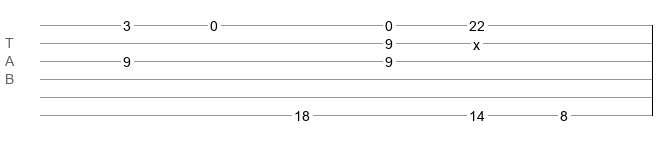0: (210, 18, 218, 28), (385, 18, 393, 28)
14: (469, 108, 485, 118)
18: (294, 108, 310, 118)
22: (469, 18, 485, 28)
3: (123, 18, 131, 28)
8: (560, 108, 568, 118)
9: (123, 54, 131, 64), (385, 36, 393, 46), (385, 54, 393, 64)
x: (473, 37, 480, 45)
